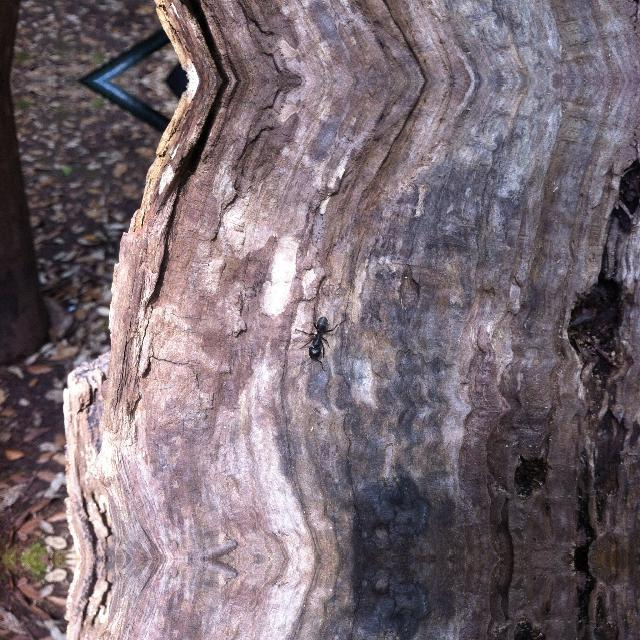Camponotus: (294, 306, 340, 368)
